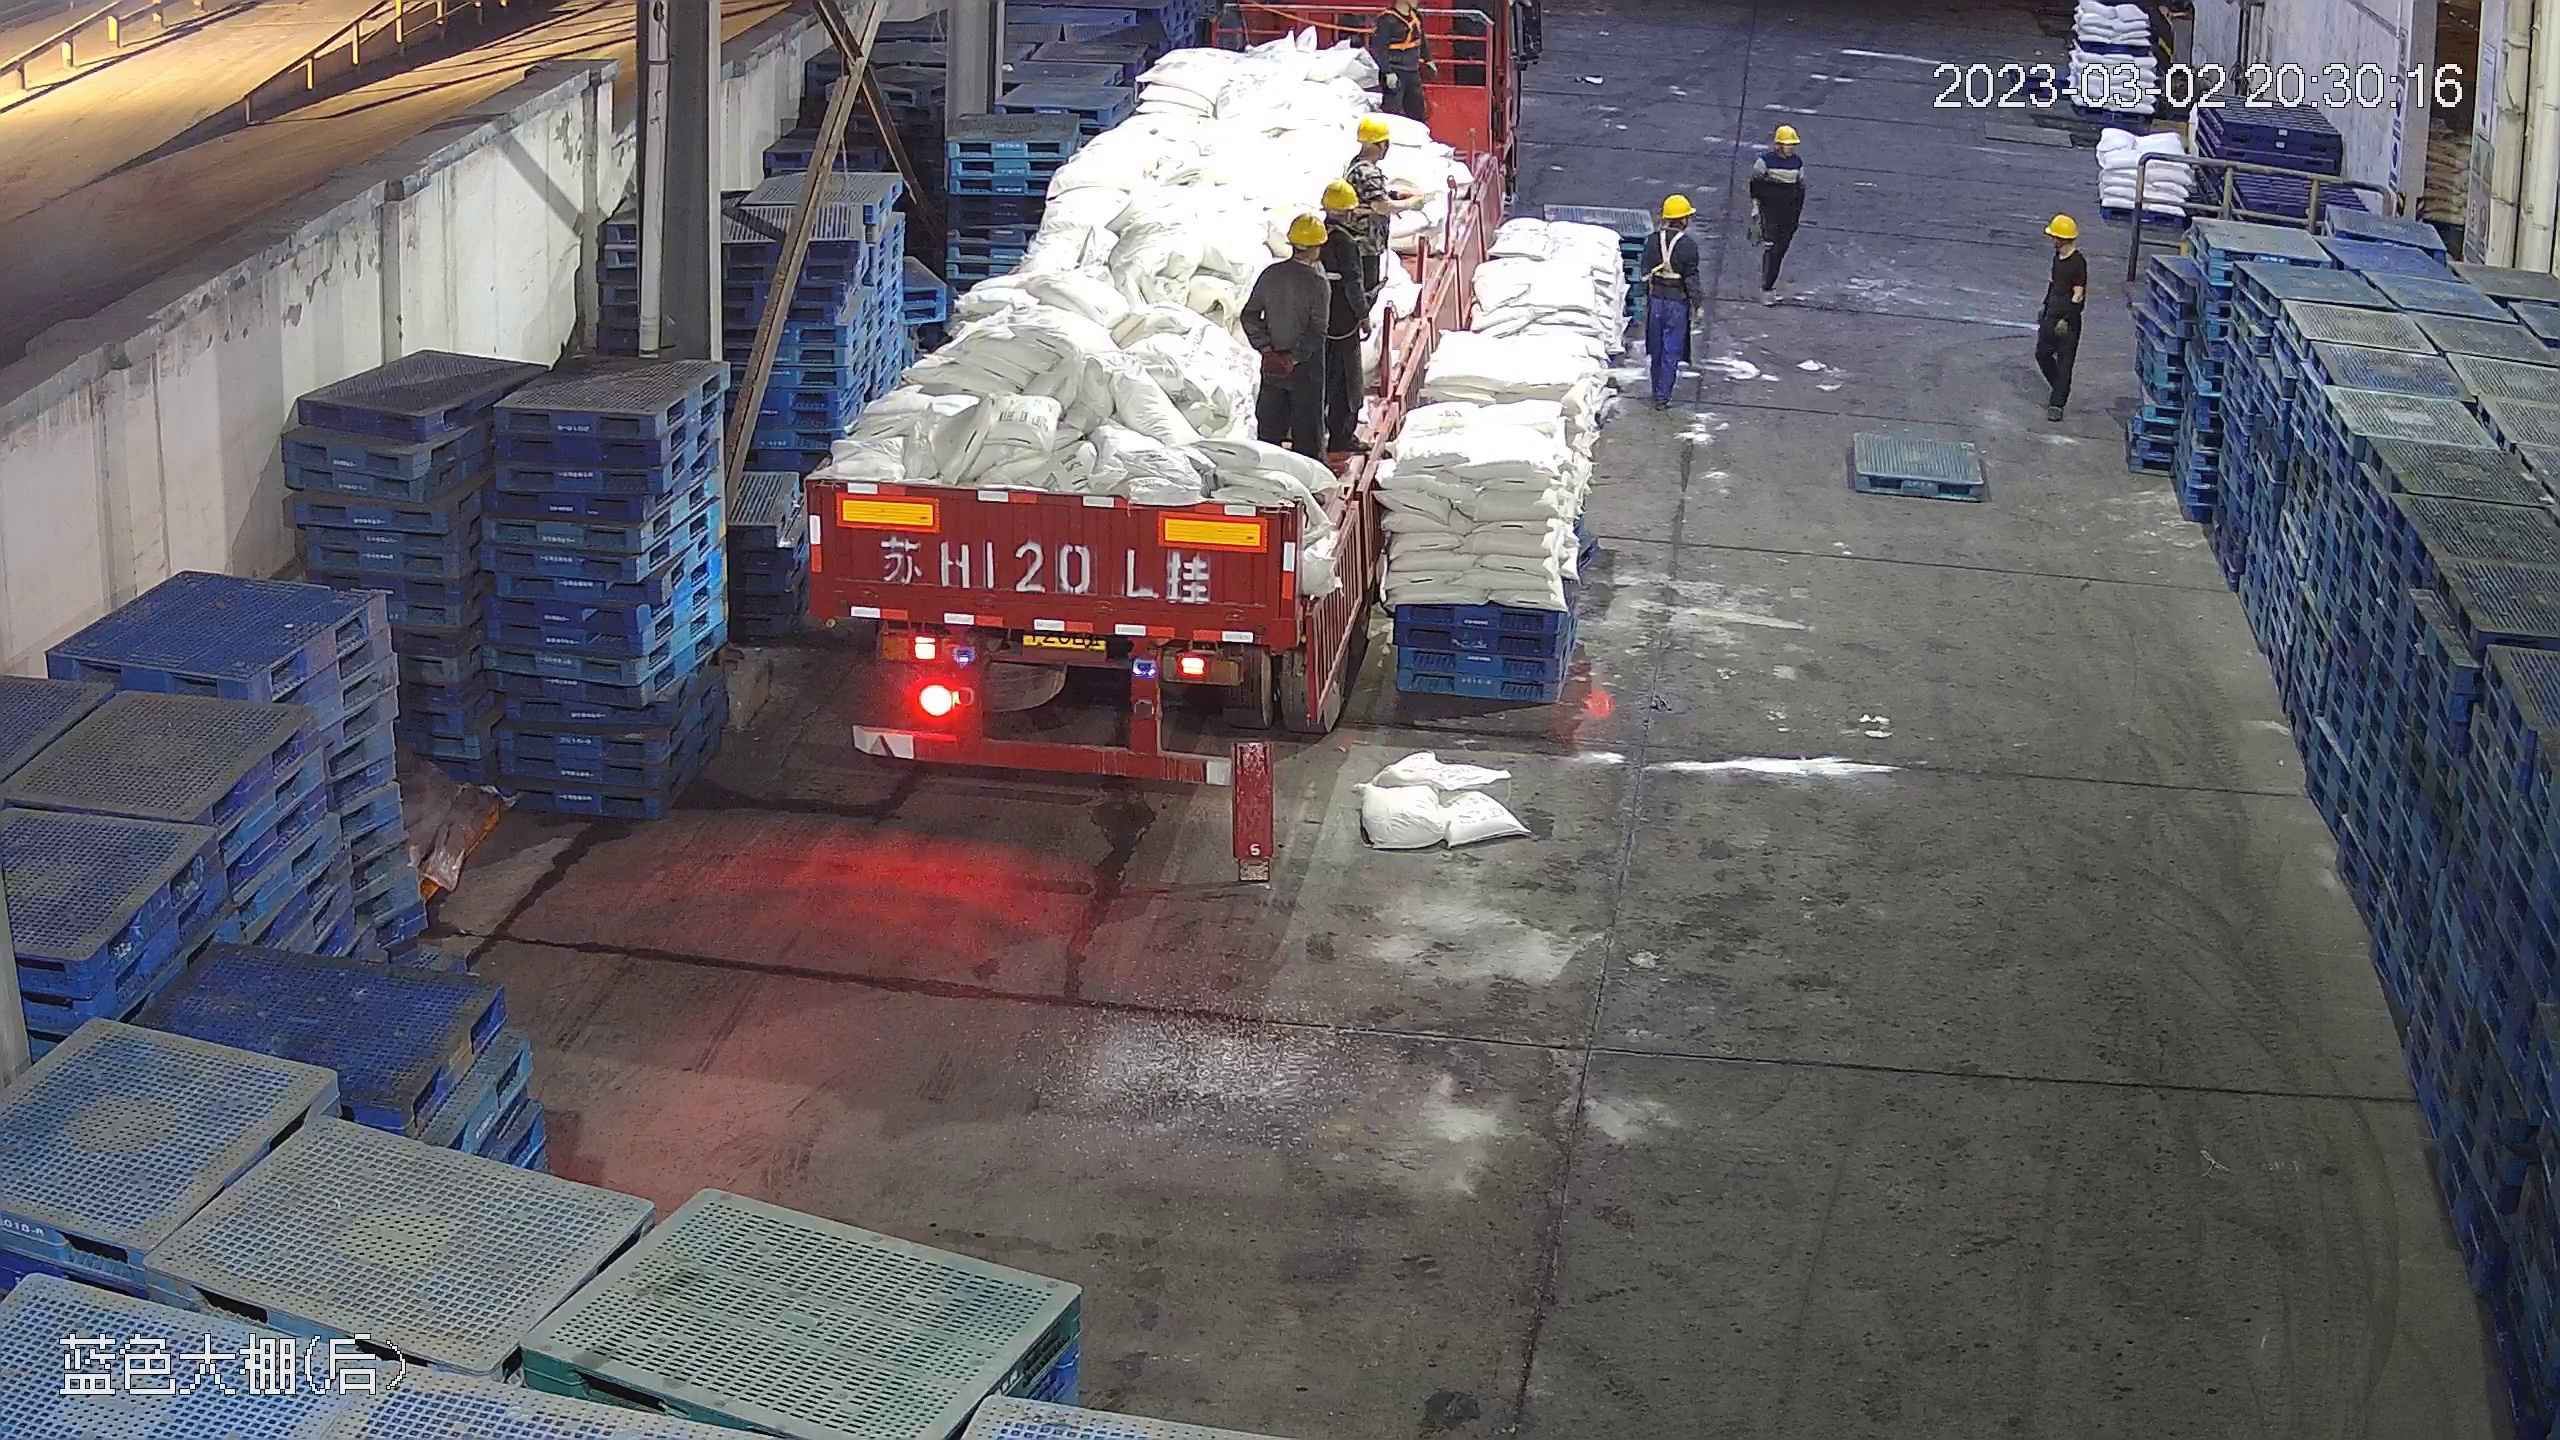belt: (1330, 212, 1380, 268), (1650, 230, 1698, 280), (1379, 6, 1424, 52), (1325, 221, 1362, 246), (1340, 156, 1367, 182)
head: (1255, 209, 1344, 300), (1329, 120, 1394, 202), (1646, 192, 1702, 260), (2043, 211, 2090, 280), (1755, 123, 1807, 177)
helmet: (1281, 210, 1331, 249), (1320, 175, 1357, 204), (2044, 211, 2080, 237), (1357, 115, 1392, 141), (1661, 192, 1693, 216), (1770, 123, 1796, 145)
people: (1242, 212, 1333, 458), (1633, 189, 1706, 407), (2029, 210, 2090, 427), (1746, 118, 1808, 307), (1374, 3, 1426, 120)
truck: (791, 10, 1468, 777)
